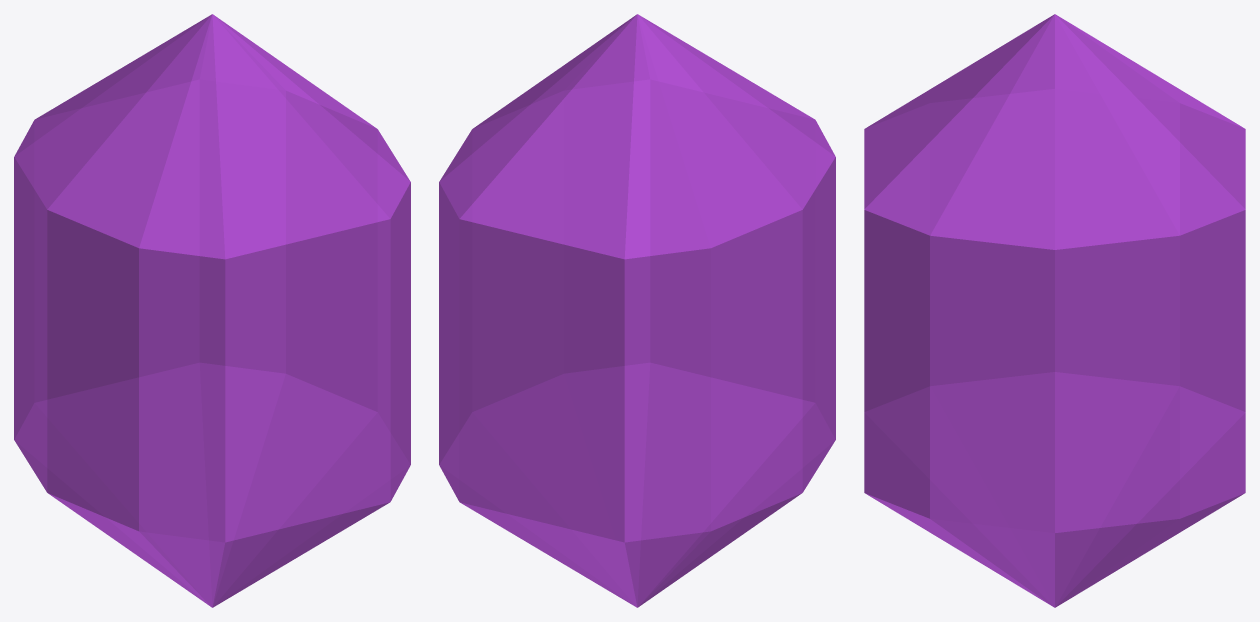
Rendered from cristall.fbx.
3 views of the same model, side by side, from view 1: azimuth 30°, elevation 25°; view 2: azimuth 150°, elevation 25°; view 3: azimuth 270°, elevation 25° (orthographic).
Visible parts, largest first — view 1: Cube; view 2: Cube; view 3: Cube.
Part boxes in pixels (x1,y1,x2,y2): Cube: (14, 14, 410, 607); Cube: (439, 14, 835, 607); Cube: (864, 14, 1245, 607).
Size of the model in its own units: 200 by 343 by 200.
